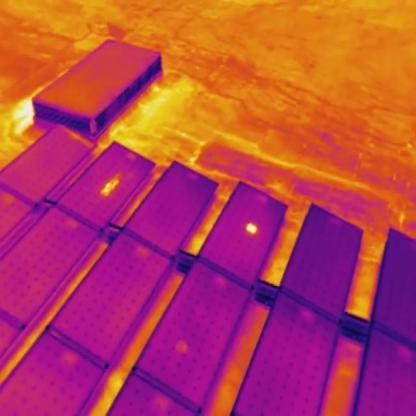anomaly: (100, 175, 120, 200), (243, 220, 261, 237)
